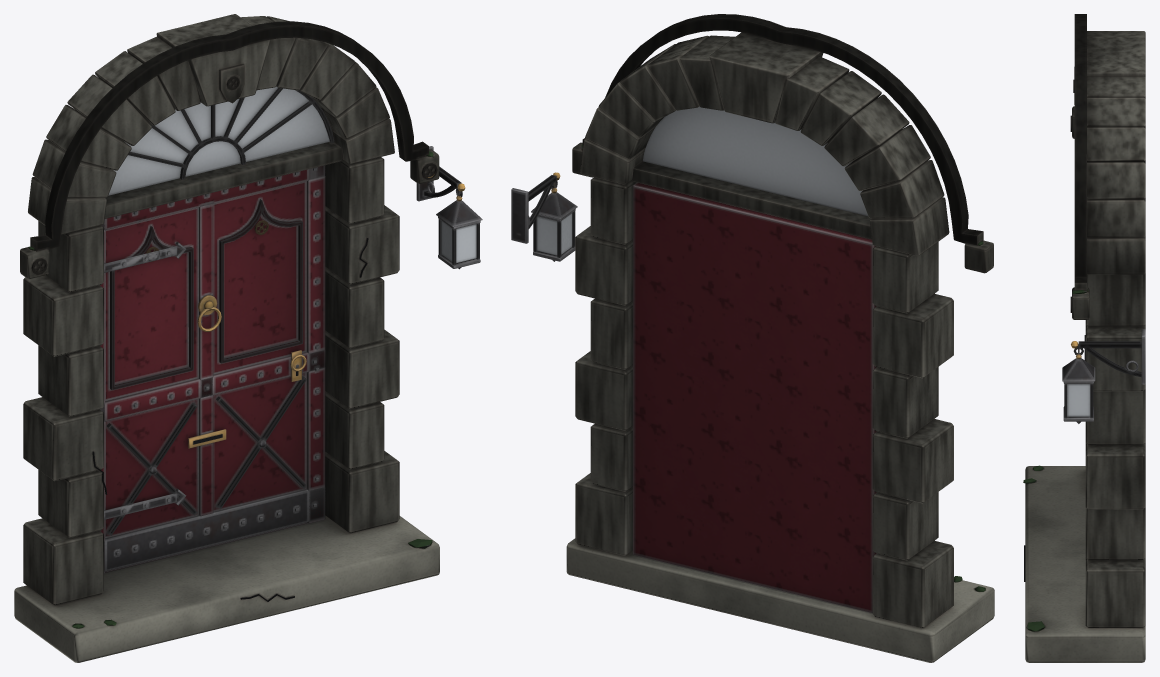
File: TownDoor.fbx
The picture shows the model from 3 angles, left to right: view 1: azimuth 30°, elevation 25°; view 2: azimuth 150°, elevation 25°; view 3: azimuth 270°, elevation 25°; orthographic projection. The views are drawn at different scales.
Visible parts, largest first — view 1: TownDoor_Main, TownDoor_Door0, TownDoor_Glass; view 2: TownDoor_Main, TownDoor_Door0, TownDoor_Glass; view 3: TownDoor_Main, TownDoor_Glass.
Boxes of the visible parts, box(x1,y1,x2,y2) form: TownDoor_Main: box(14, 14, 482, 662); TownDoor_Door0: box(100, 165, 325, 573); TownDoor_Glass: box(108, 86, 476, 262); TownDoor_Main: box(511, 14, 994, 662); TownDoor_Door0: box(633, 182, 876, 613); TownDoor_Glass: box(536, 106, 867, 255); TownDoor_Main: box(1023, 14, 1145, 662); TownDoor_Glass: box(1067, 384, 1090, 416).
Bounding box in the file's own units: 738 × 886 × 183.
